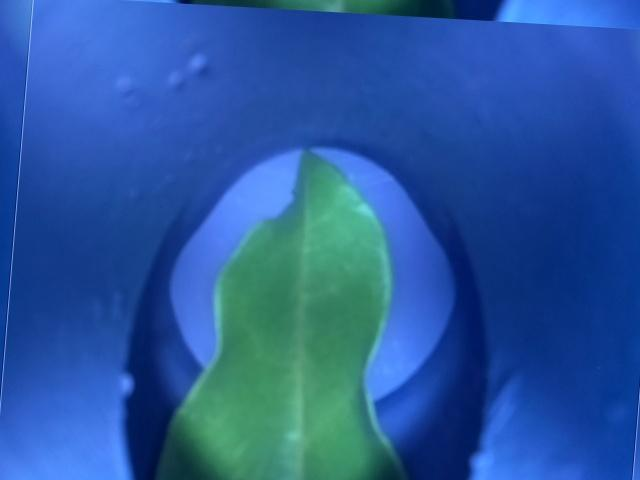feuille: (141, 123, 447, 479)
